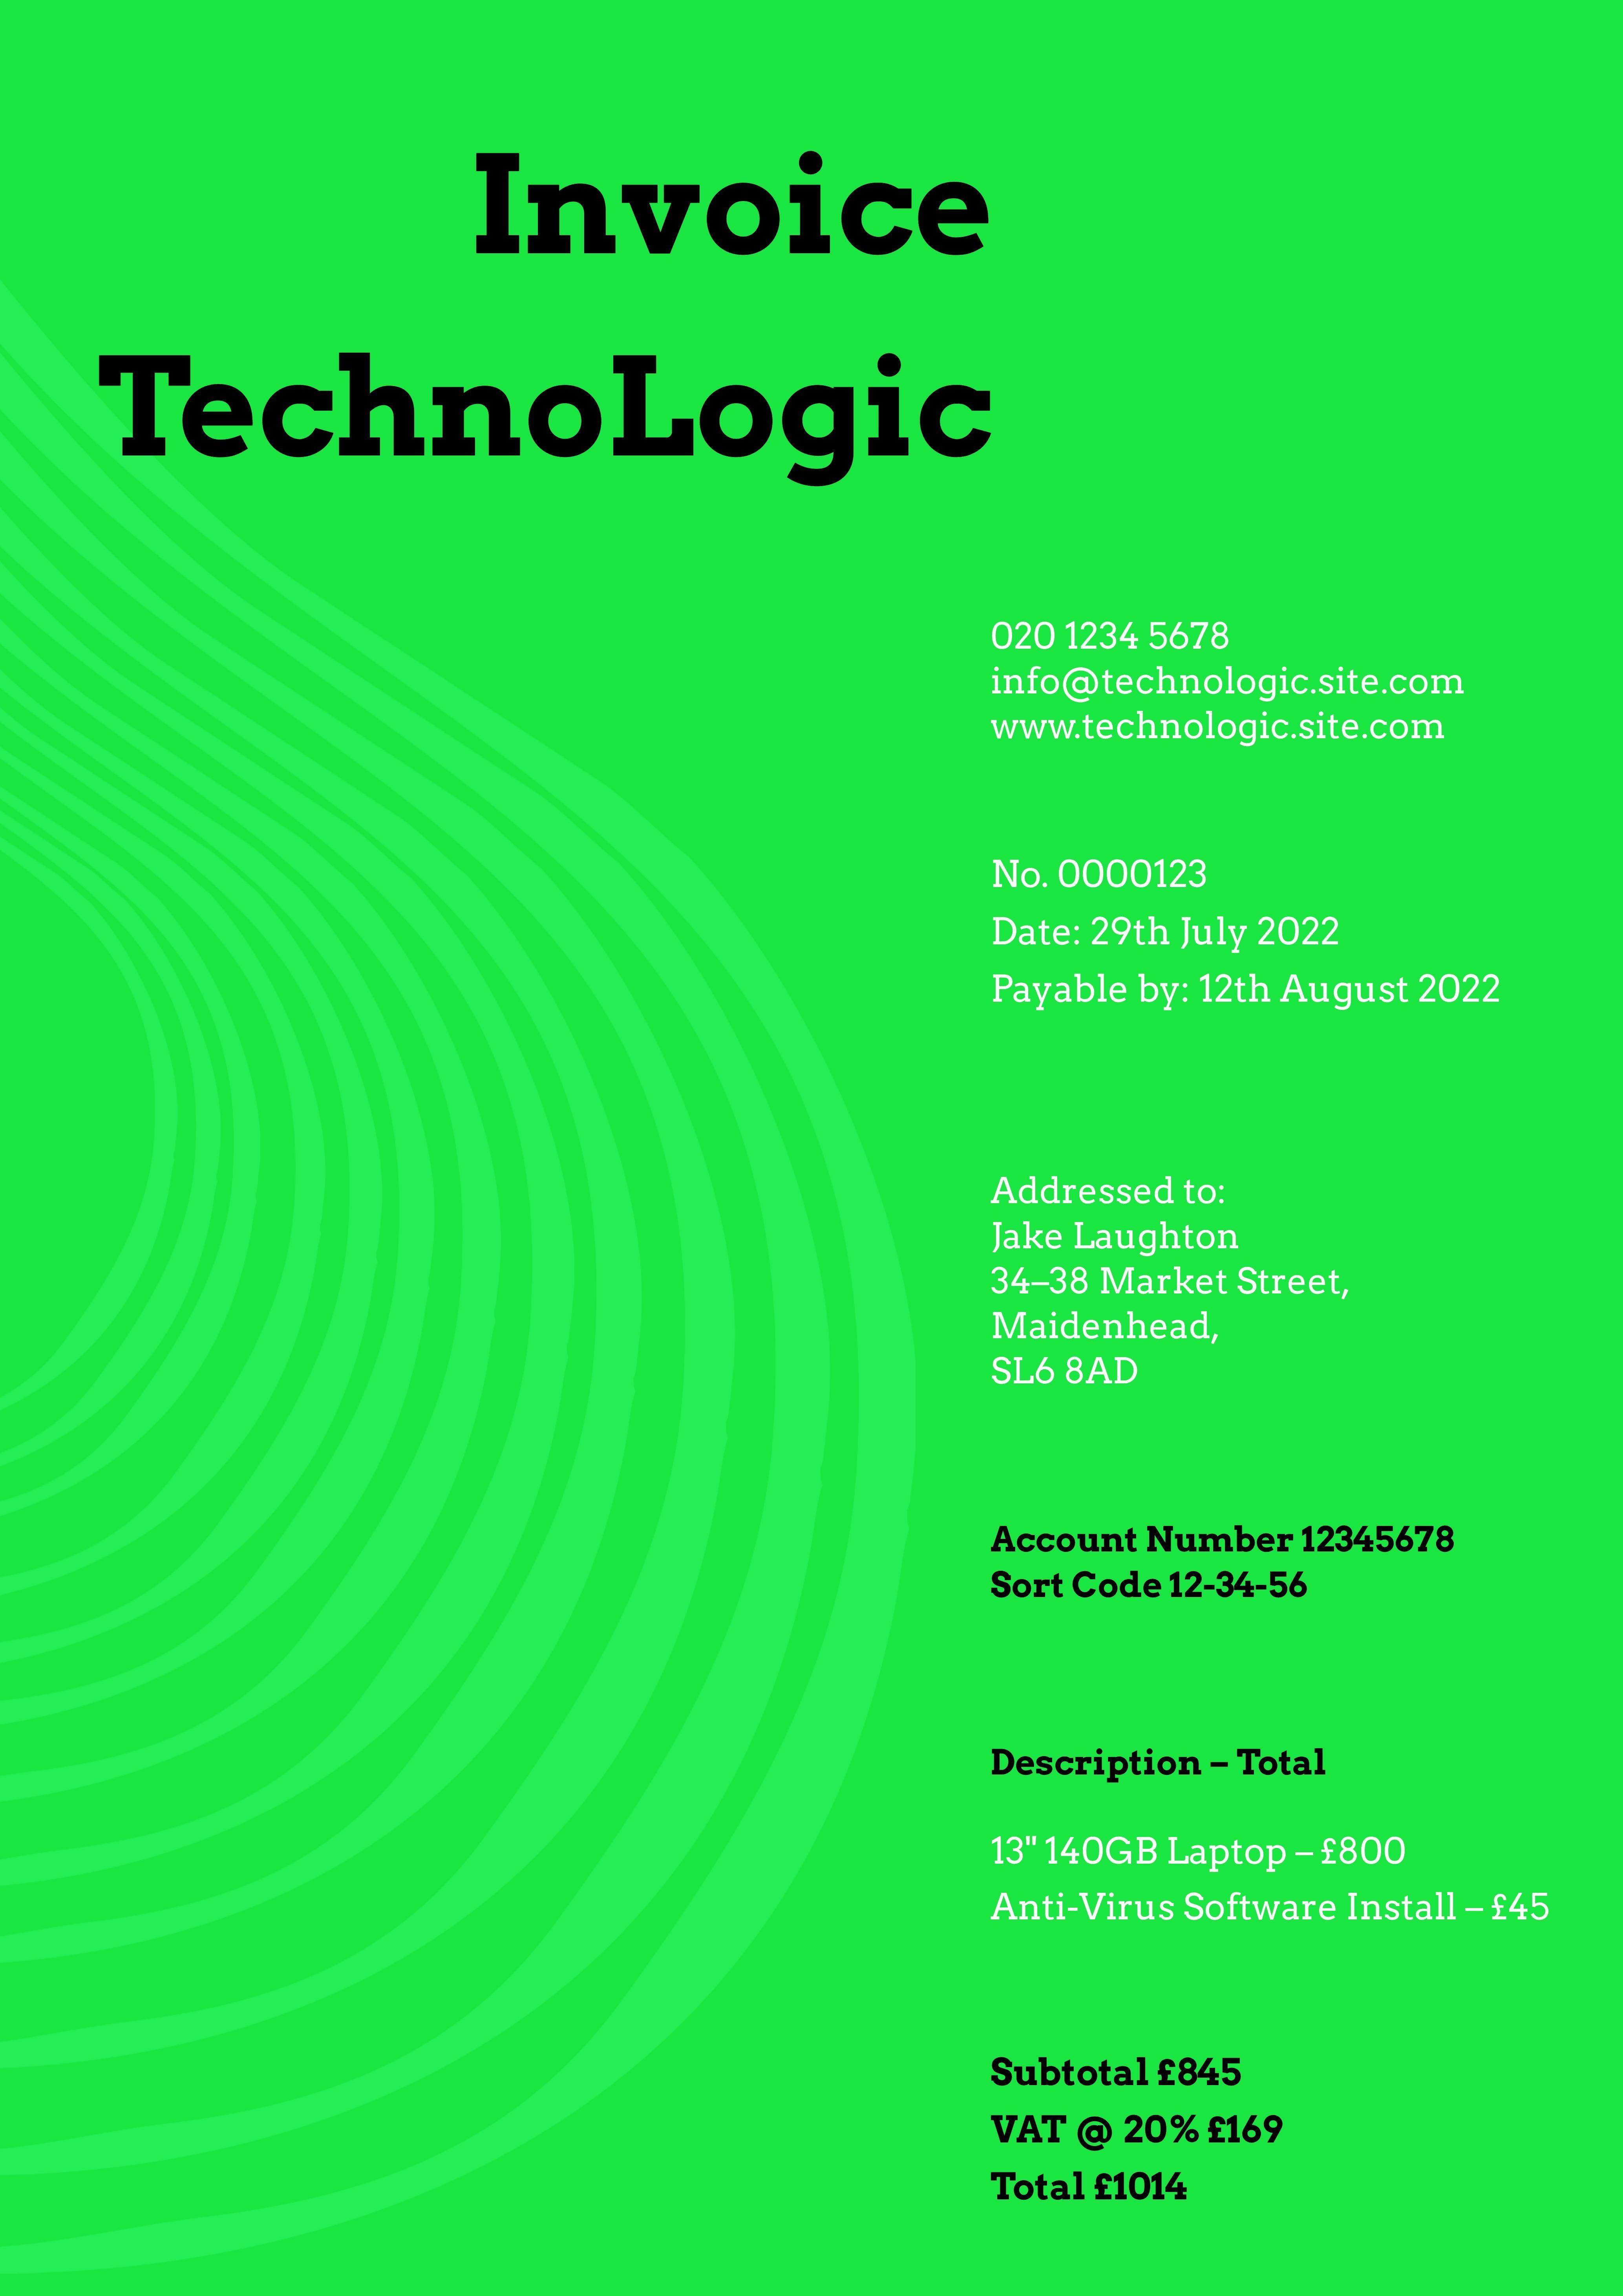ROI: (93, 344, 1508, 752), (987, 1737, 1555, 1943), (976, 831, 1513, 1029), (984, 1175, 1361, 1403), (965, 2030, 1303, 2215), (977, 1512, 1472, 1609)
